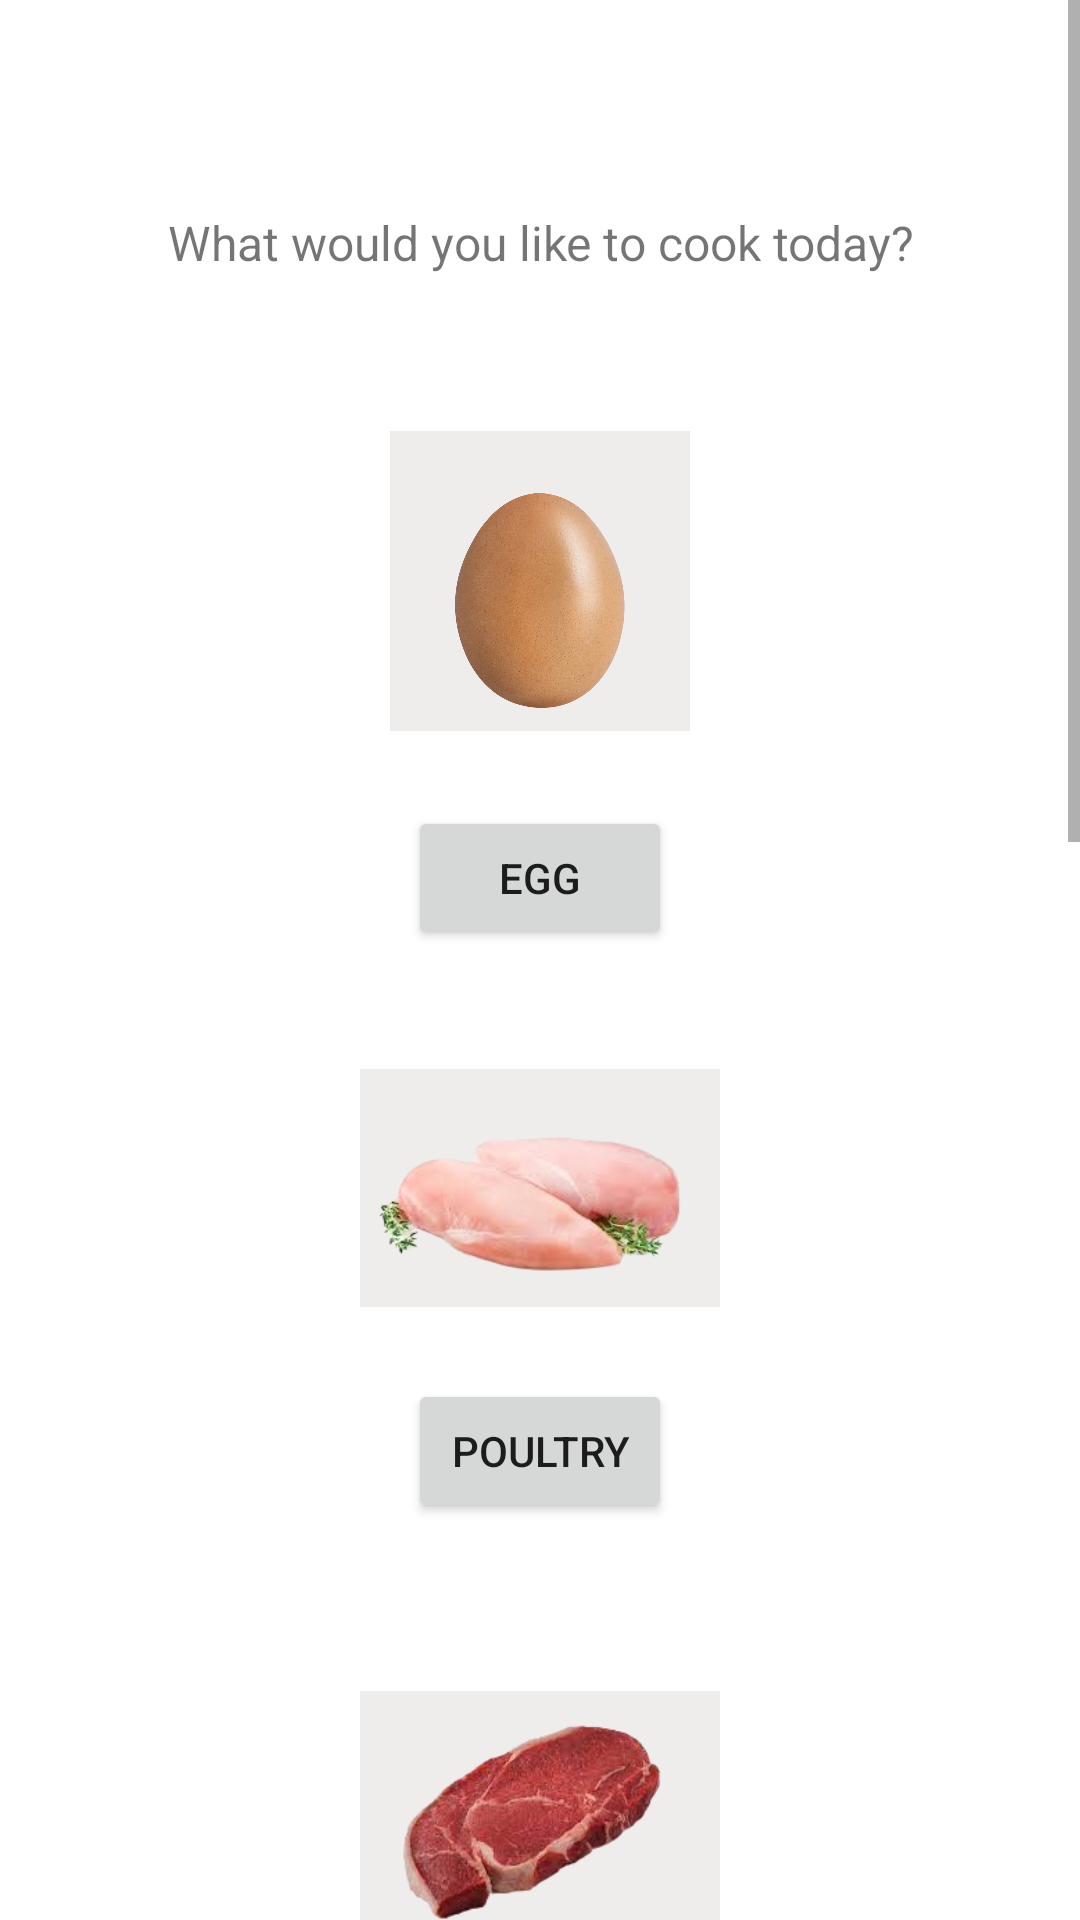

Where icons sit on this 1080×1920 app screen, as (x1, y1, x2, y2):
chicken adobespark: (379, 1137, 680, 1271)
egg adobespark: (455, 493, 625, 708)
